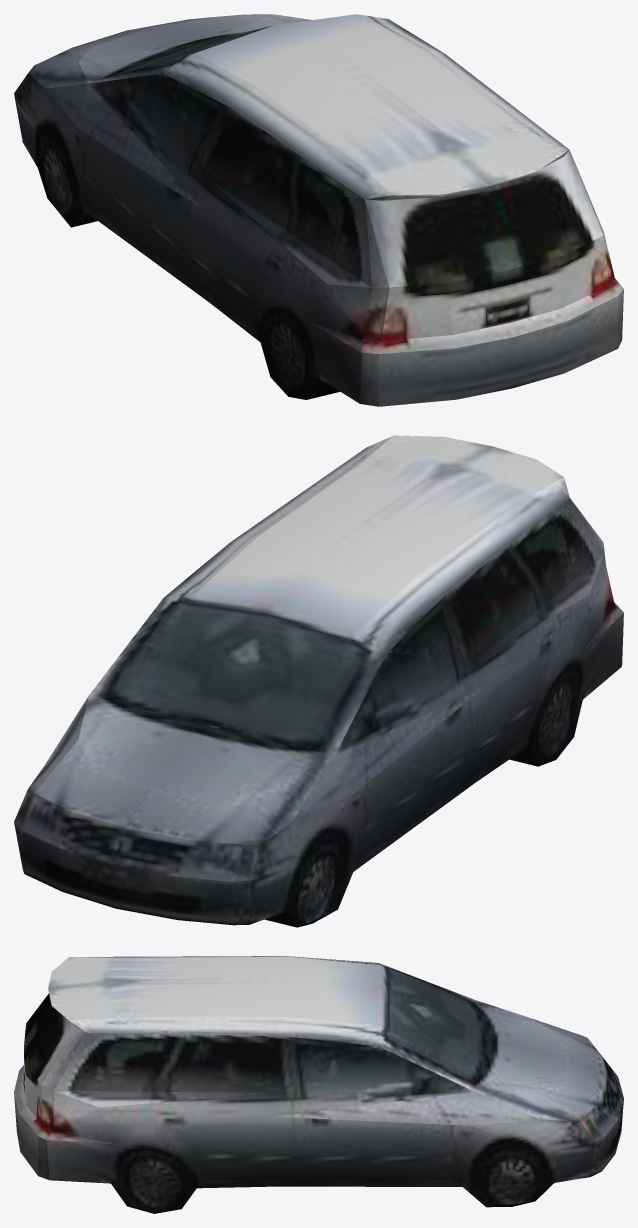
The model's file is baiche.FBX.
The picture shows the model from 3 angles, top to bottom: view 1: azimuth 30°, elevation 25°; view 2: azimuth 150°, elevation 25°; view 3: azimuth 270°, elevation 25°; orthographic projection. The views are drawn at different scales.
Visible parts, largest first — view 1: yzh-qc-891; view 2: yzh-qc-891; view 3: yzh-qc-891.
Boxes of the visible parts, x1,y1,x2,y2 form: yzh-qc-891: (14,14,623,406); yzh-qc-891: (14,435,623,927); yzh-qc-891: (14,956,623,1213).
Size of the model in its own units: 201 by 159 by 476.
